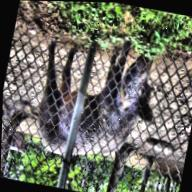boar: (46, 44, 172, 176)
